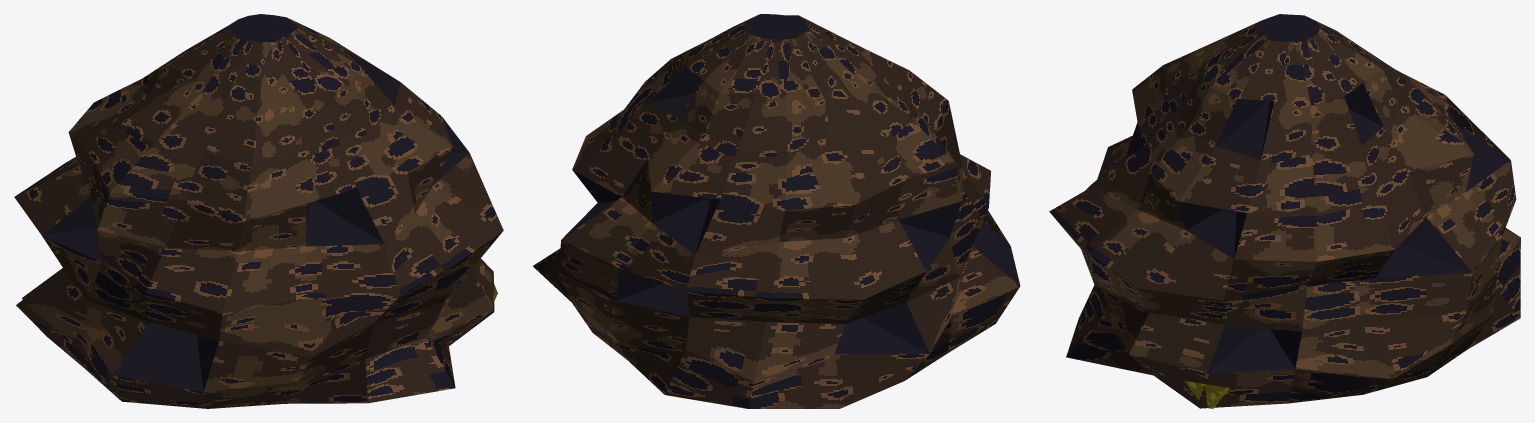
File: POR-01_Penasco_poroso.gltf
3 renders of one model, left to right at view 1: azimuth 30°, elevation 25°; view 2: azimuth 150°, elevation 25°; view 3: azimuth 270°, elevation 25°, orthographic. The views are drawn at different scales.
Parts seen in each view (by area): view 1: POR-01_Penasco_poroso; view 2: POR-01_Penasco_poroso; view 3: POR-01_Penasco_poroso.
Boxes of the visible parts, x1,y1,x2,y2 form: POR-01_Penasco_poroso: (14, 14, 503, 408); POR-01_Penasco_poroso: (533, 14, 1020, 408); POR-01_Penasco_poroso: (1049, 14, 1520, 408).
Size of what is drawn, in the model's own units: 3.85 by 2.7 by 3.97.
Materials: 1 (1 with a texture image).
